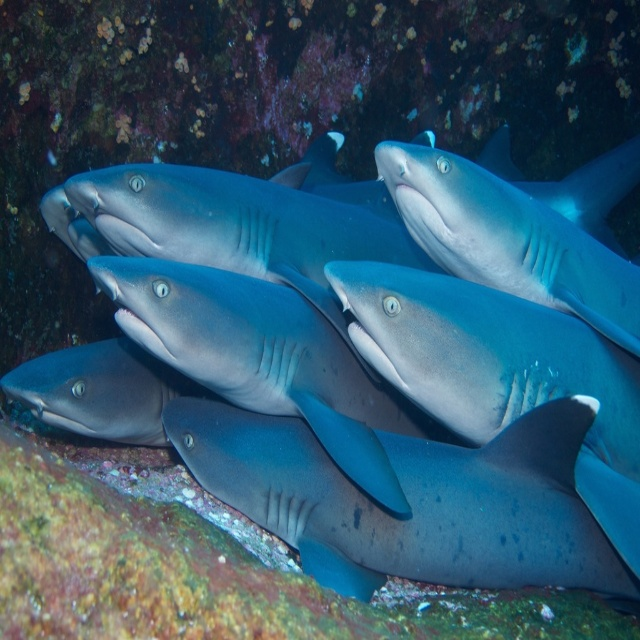Shark: (2, 140, 638, 605)
